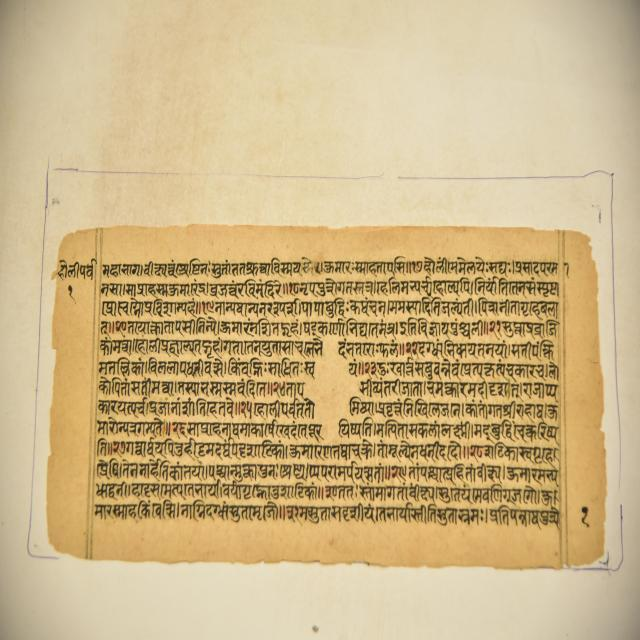text_paragraph: (49, 229, 605, 560)
